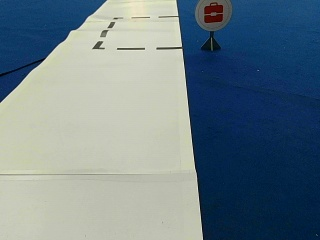company: (195, 0, 231, 30)
